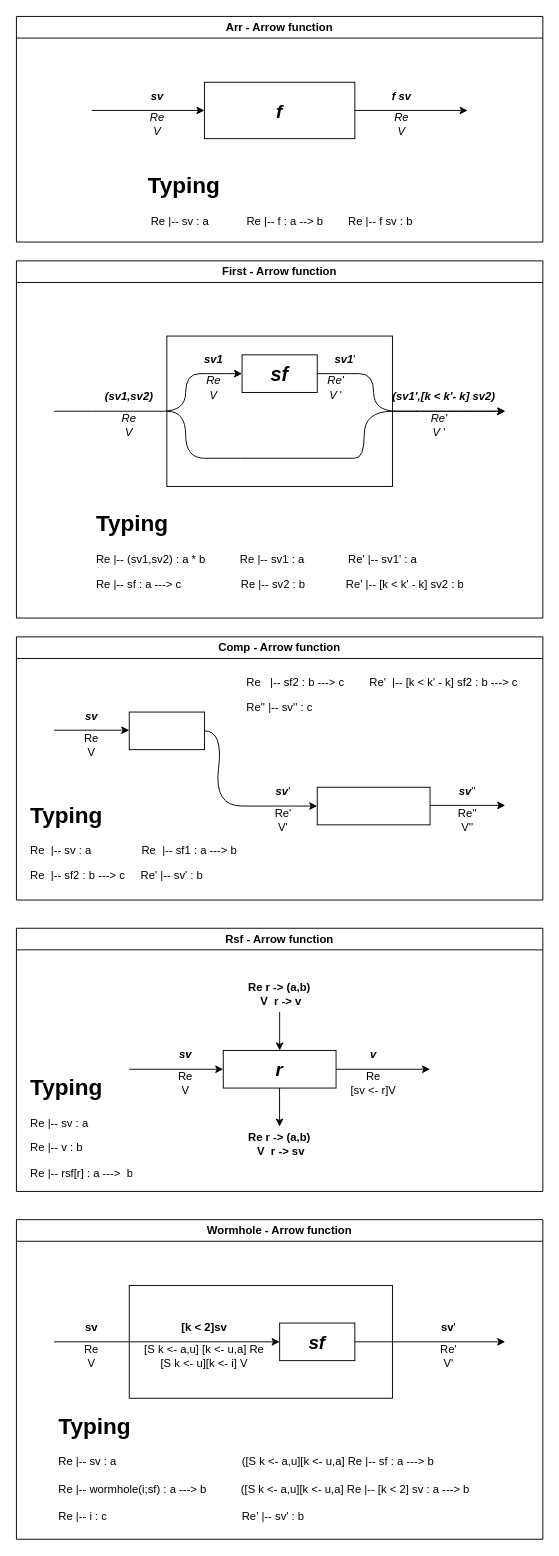
Image size: 559x1556. Some labels were removed from this diagram. The centre of each missing label's shape, as x and y in pixels:
"[k < k' - k] sf2" goes at (x=373, y=805).
"sf1" goes at (x=166, y=730).
